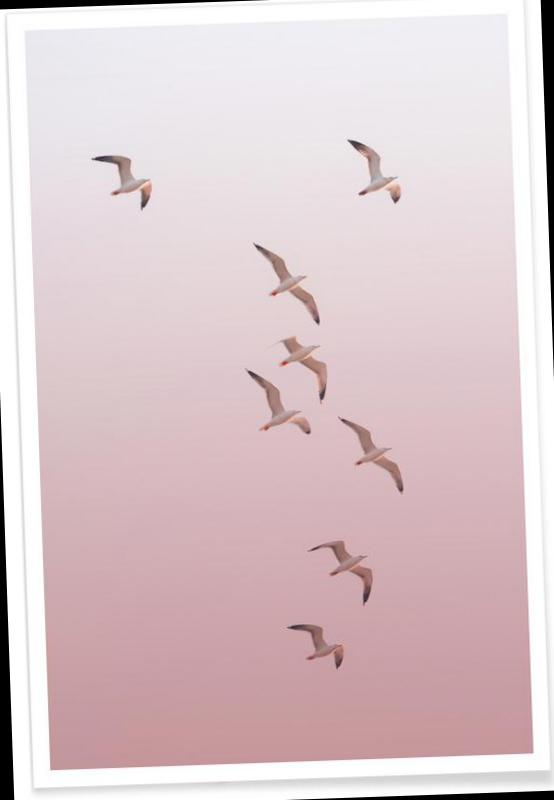bird: (72, 134, 177, 237), (324, 124, 424, 223)
